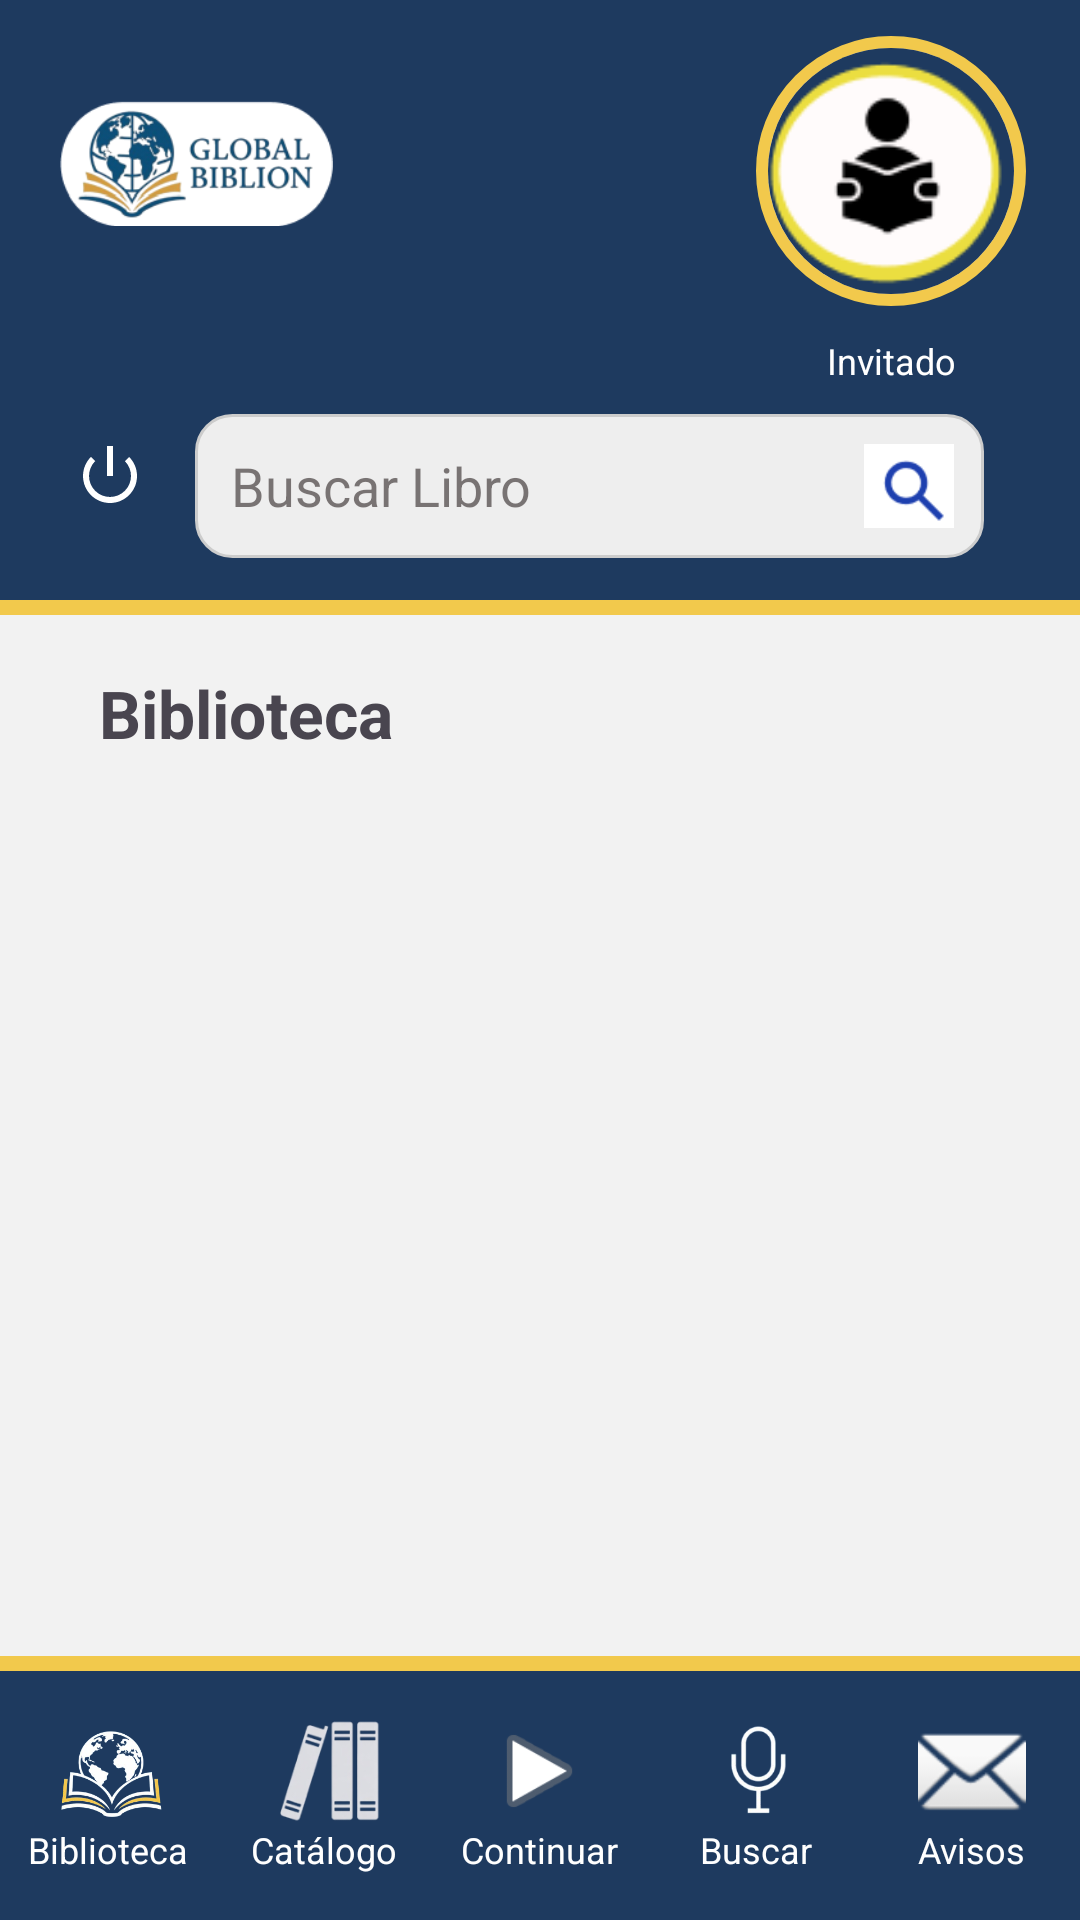

Icon bounding boxes for this 1080x1920 phone screenshot, format bbox=(x1, y1, x2, y2):
Cerrar sesión: bbox=(83, 446, 137, 503)
email: bbox=(918, 1734, 1026, 1810)
microfono: bbox=(731, 1726, 786, 1813)
Perfil: bbox=(770, 64, 1002, 283)
play: bbox=(507, 1735, 572, 1807)
